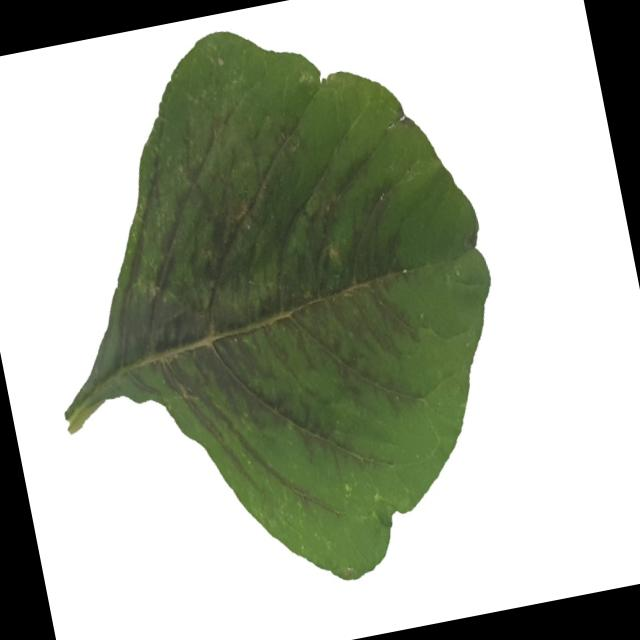Medicinal-Arive Dantu: (0, 0, 544, 623)
